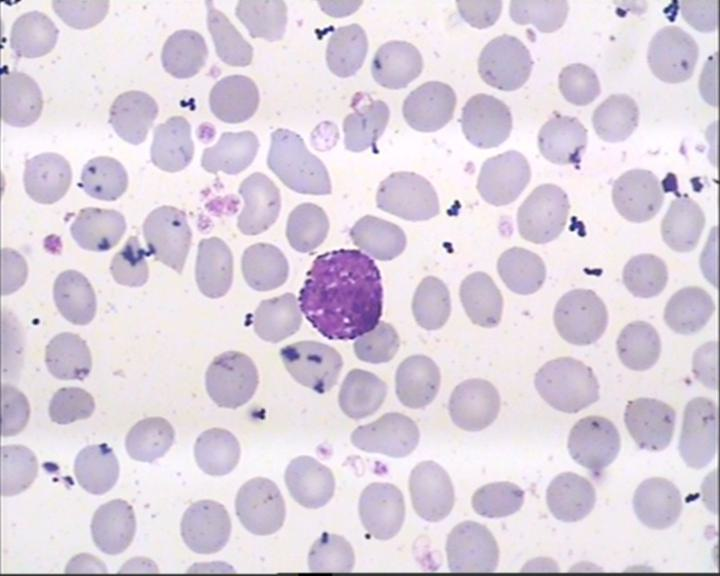baso: (293, 244, 387, 340)
